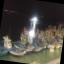fishing boat: (0, 32, 27, 58)
